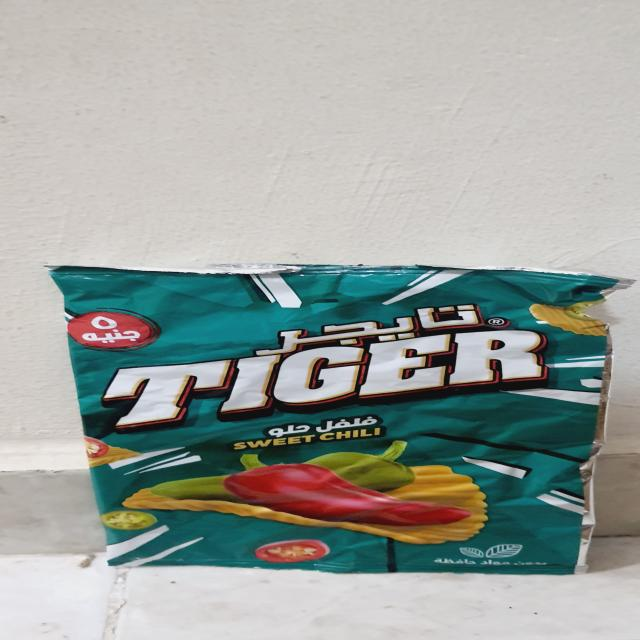Metal: (45, 262, 632, 574)
